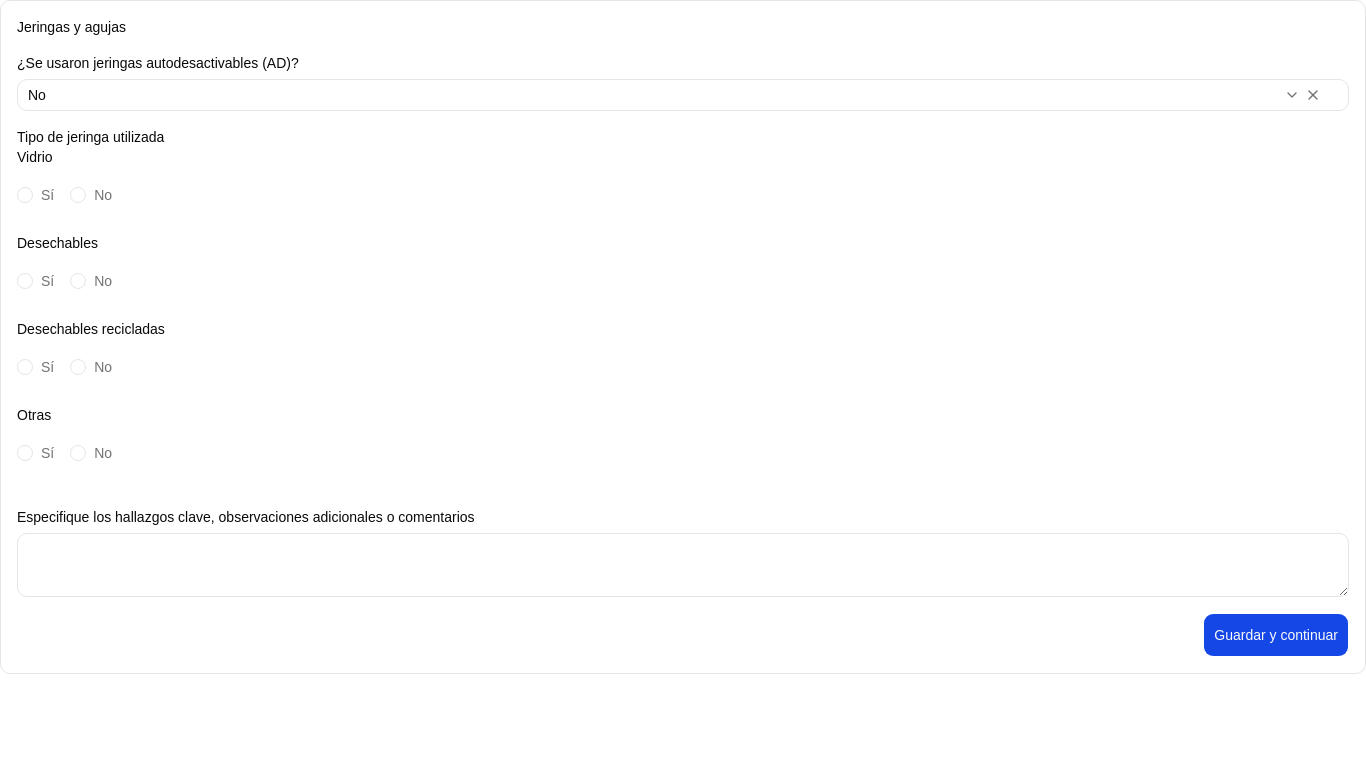
Test: AdministrationErrorSection — regla de mínimo (SPEC FE13e §1.B) › con el bloque abierto y los cuatro tipos sin tocar, el guardado no sale del cliente
Click the button "Guardar y continuar" at (1276,635), box [1203,613,1349,657]
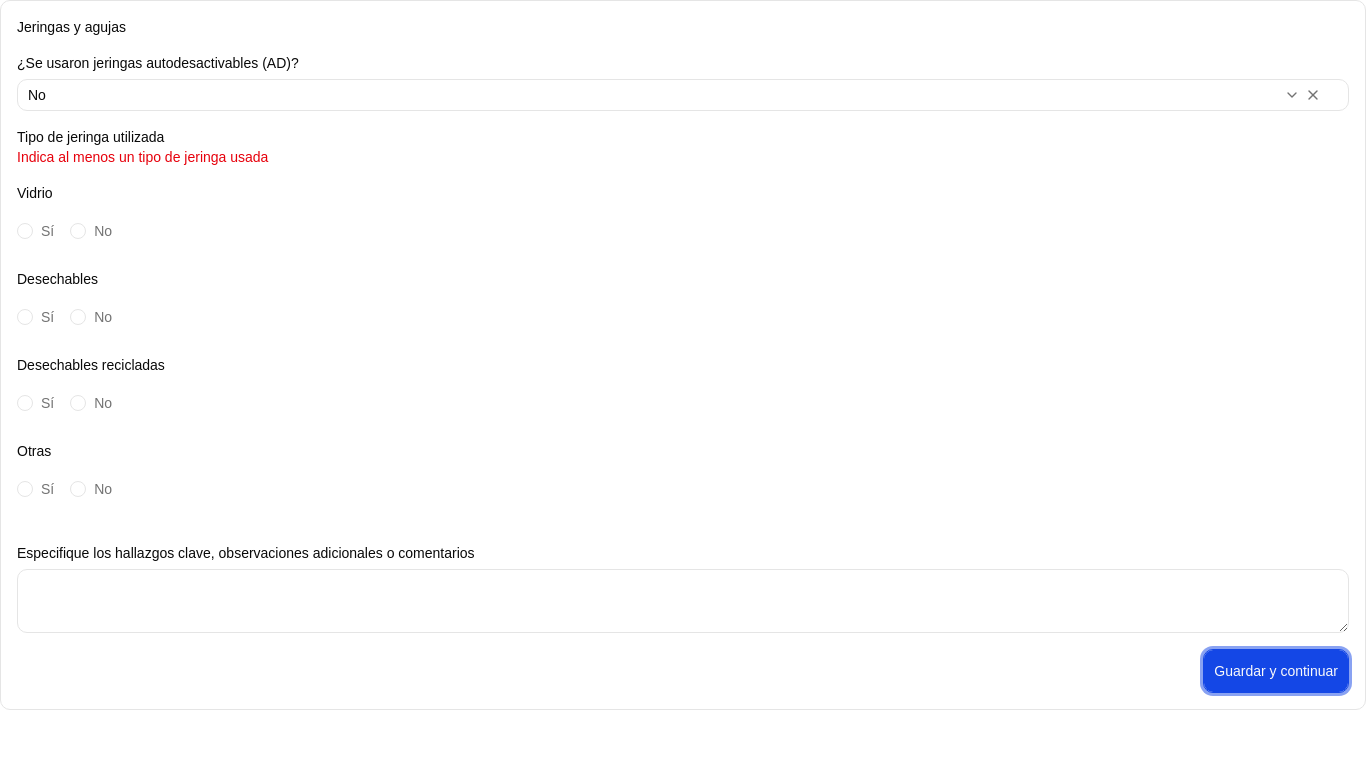
Check: the text "Indica al menos un tipo de jeringa usada" is shown, box [17,149,268,165]
